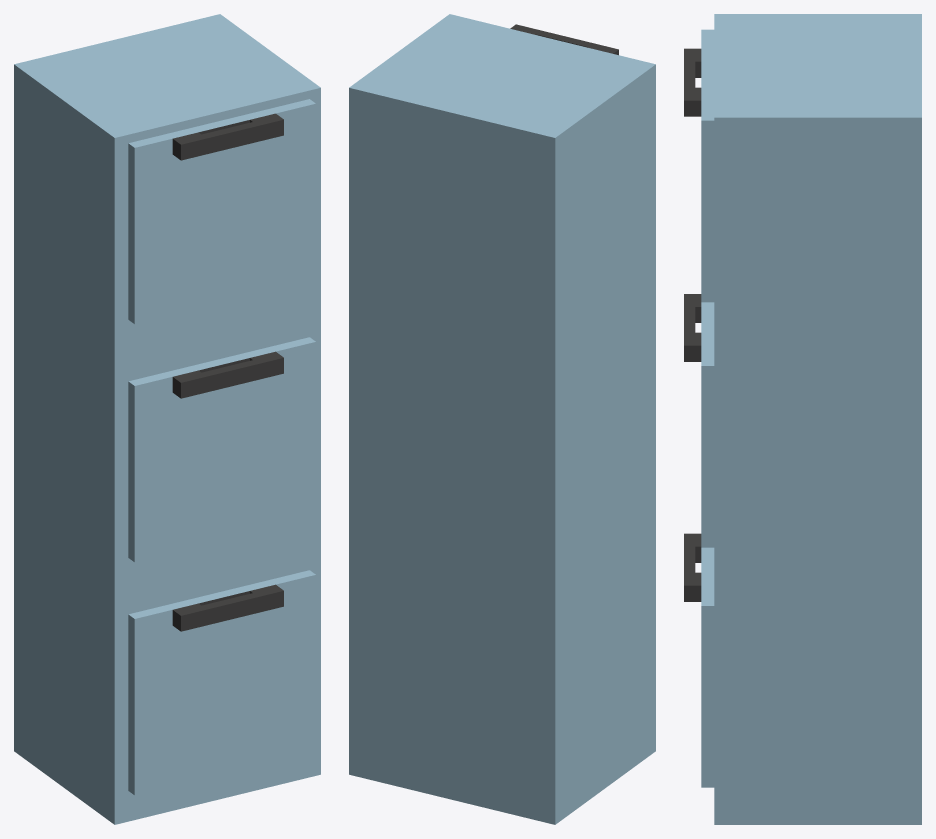
Rendered from file_cabinet.fbx.
3 views of the same model, side by side, from view 1: azimuth 30°, elevation 25°; view 2: azimuth 150°, elevation 25°; view 3: azimuth 270°, elevation 25° (orthographic). The views are drawn at different scales.
Parts seen in each view (by area): view 1: small_darwer5; view 2: small_darwer5; view 3: small_darwer5.
Boxes of the visible parts, x1,y1,x2,y2 form: small_darwer5: [14, 14, 320, 824]; small_darwer5: [349, 14, 655, 824]; small_darwer5: [684, 14, 921, 824].
Size of the model in its own units: 47.65 by 152 by 46.21.
